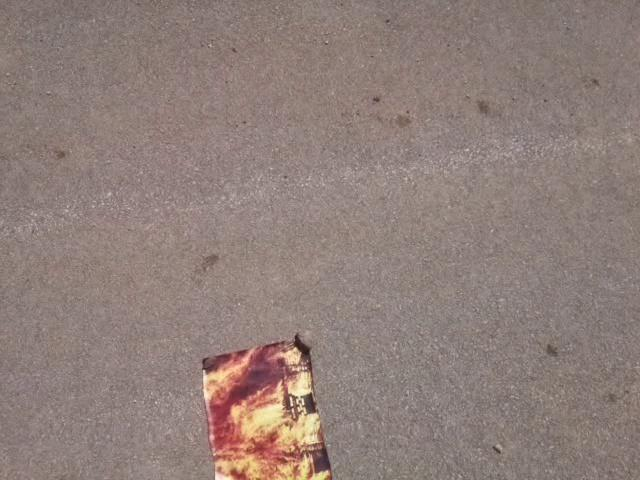fire-poster: (199, 331, 335, 479)
